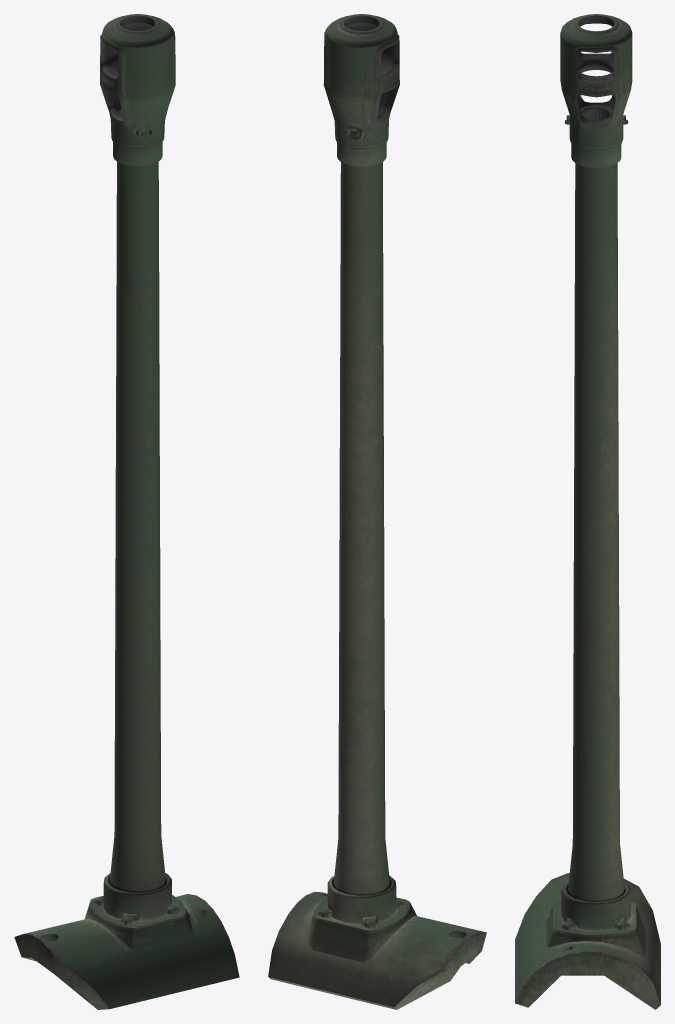
The model's file is Gun_06.glb.
The picture shows the model from 3 angles, left to right: view 1: azimuth 30°, elevation 25°; view 2: azimuth 150°, elevation 25°; view 3: azimuth 270°, elevation 25°; orthographic projection.
Parts seen in each view (by area): view 1: set_0_group_0; view 2: set_0_group_0; view 3: set_0_group_0.
Part boxes in pixels (x1=…): set_0_group_0: x1=14, y1=14, x2=239, y2=1009; set_0_group_0: x1=268, y1=14, x2=486, y2=1009; set_0_group_0: x1=515, y1=14, x2=660, y2=1009.
Size of the model in its own units: 0.8031 by 4.43 by 0.6119.
Materials: 1 (1 with a texture image).
